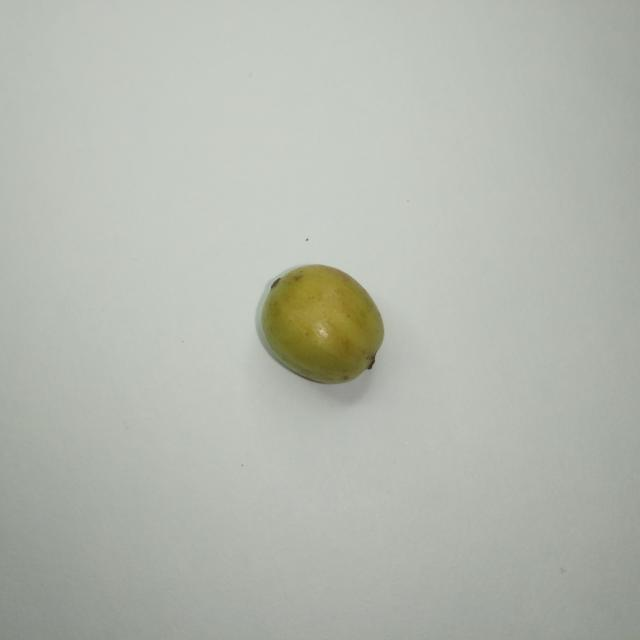Sano: (256, 265, 383, 383)
